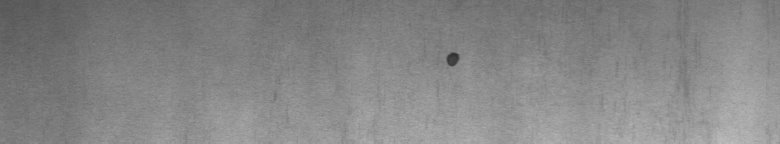fi: (437, 44, 464, 72)
